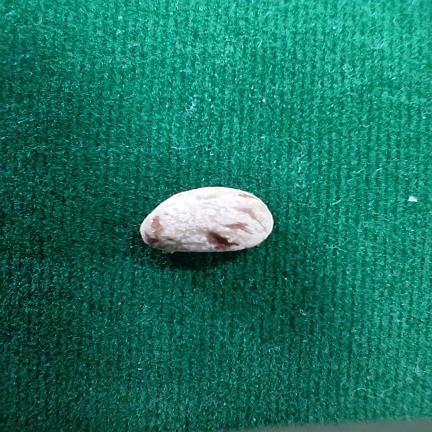shell: (140, 187, 273, 253)
